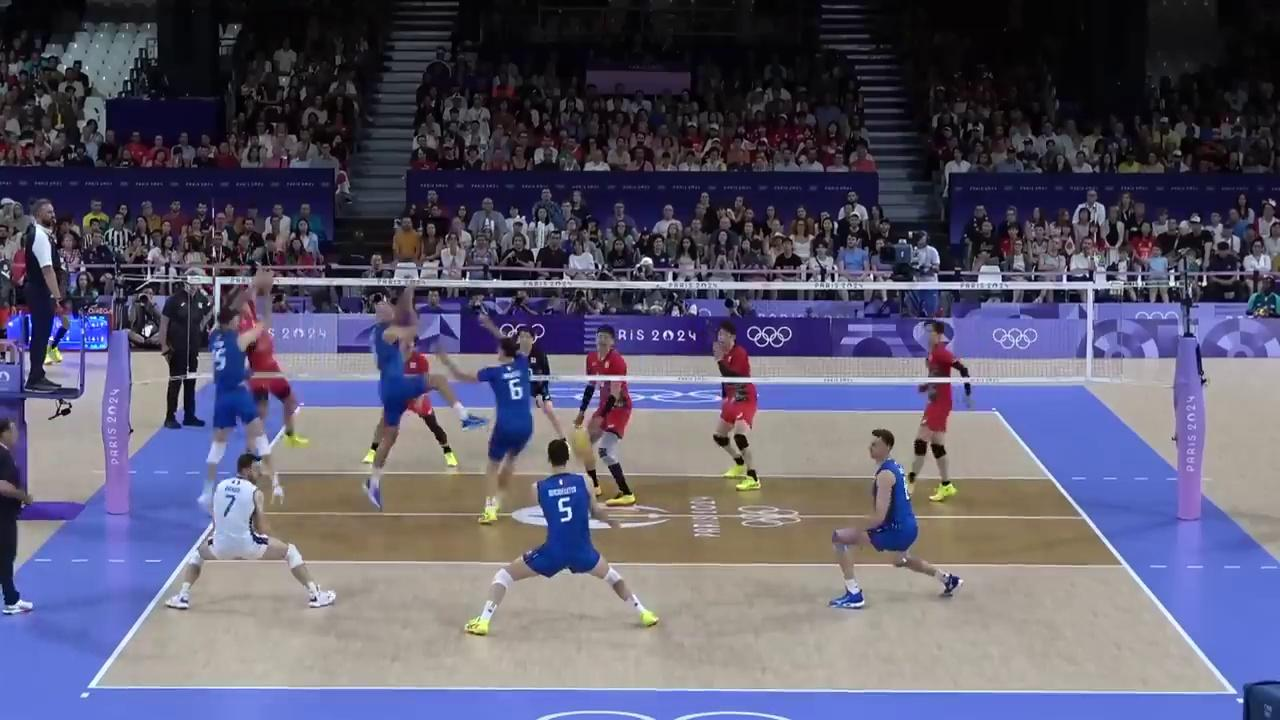ball: (572, 429, 594, 467)
